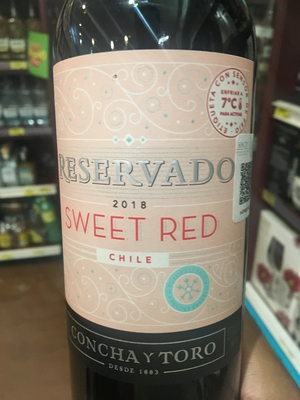reservado sweet red: (49, 9, 273, 400)
